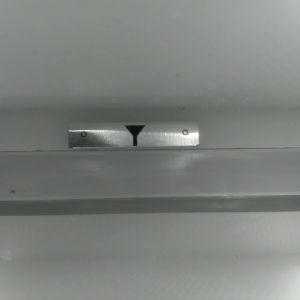finger: (124, 125, 145, 145)
